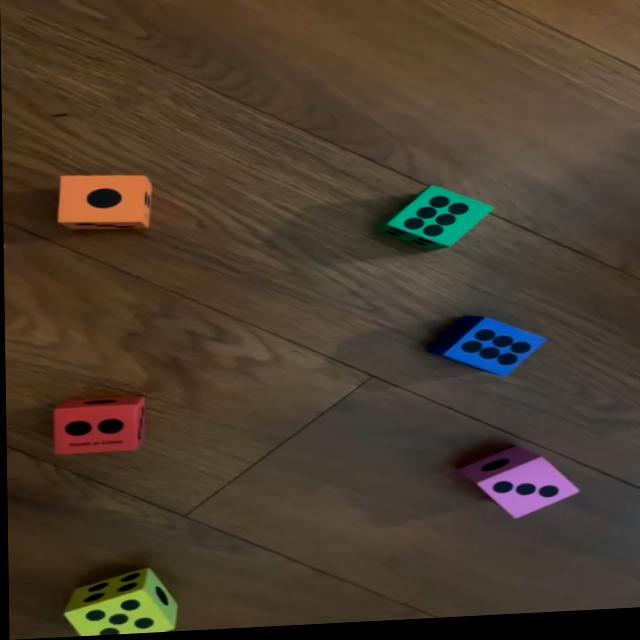cube: (428, 314, 548, 385), (383, 187, 496, 259), (51, 395, 145, 455)
